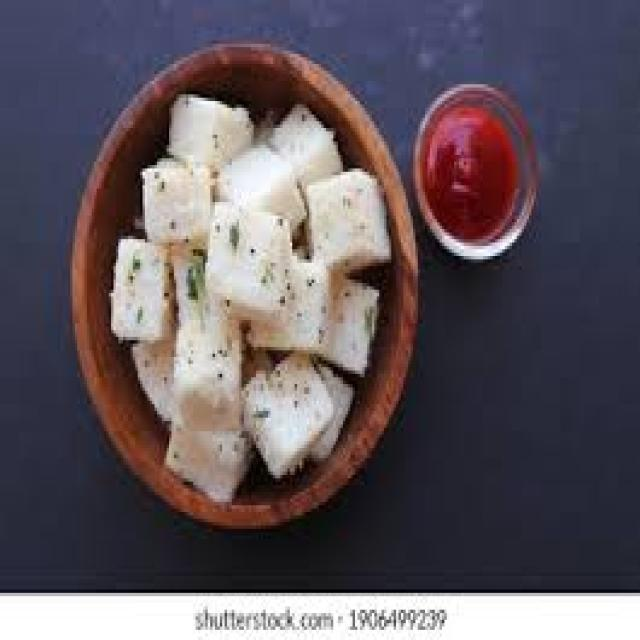DHOKLA: (243, 353, 337, 475), (174, 282, 247, 432), (208, 197, 290, 329), (304, 171, 385, 277), (164, 415, 252, 506), (166, 97, 255, 185), (256, 264, 335, 355), (266, 100, 341, 189), (322, 282, 378, 386), (235, 144, 303, 227), (142, 161, 216, 234), (118, 243, 167, 349)
